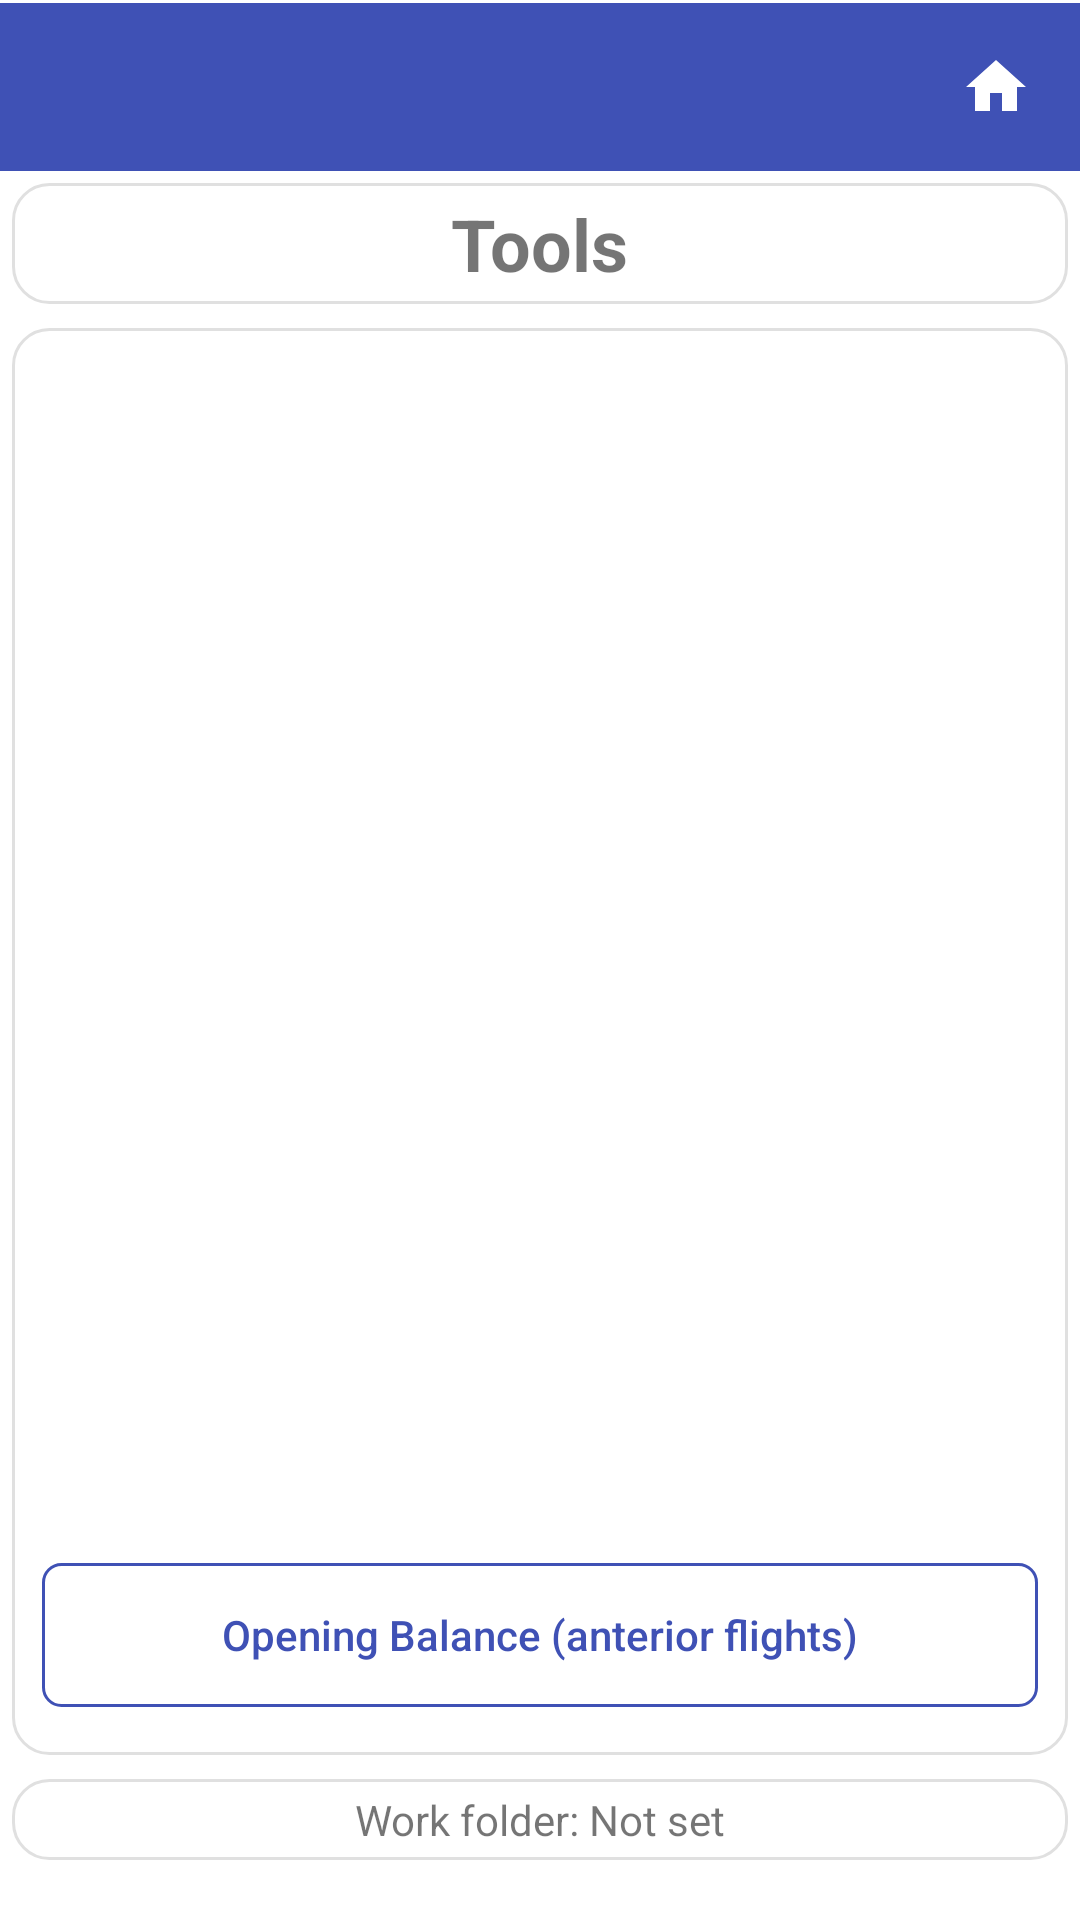

Point at icon controls on the screen. Image size 1080*1920, points as [x,y].
Home: [996,85]
